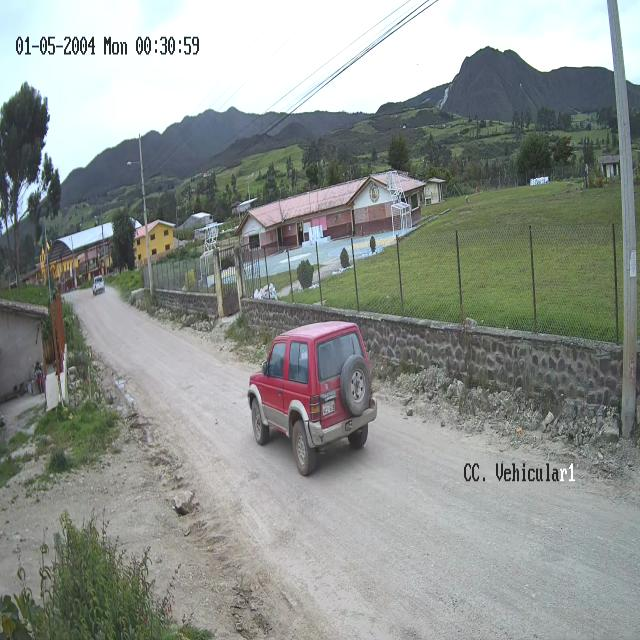SUV: (248, 321, 377, 478)
